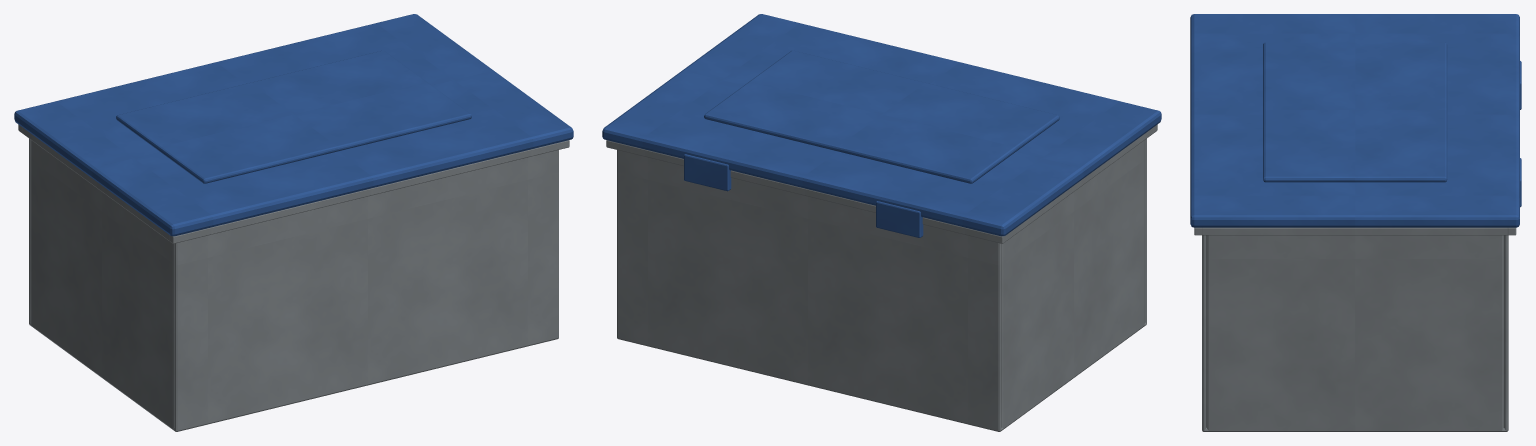
File: lootbox_bin.glb
3 views of the same model, side by side, from view 1: azimuth 30°, elevation 25°; view 2: azimuth 150°, elevation 25°; view 3: azimuth 270°, elevation 25° (orthographic). The views are drawn at different scales.
Parts seen in each view (by area): view 1: bin_back, lid, bin_left, lid_rib, rim_b, rim_l, bin_floor; view 2: bin_front, lid, bin_left, lid_rib, rim_f, clip1, clip0, rim_l, bin_floor; view 3: bin_right, lid, lid_rib, rim_r, bin_back, bin_front, bin_floor.
Part boxes in pixels (left/top/right/bottom): bin_back: left=174, top=150, right=558, bottom=431; lid: left=14, top=14, right=573, bottom=236; bin_left: left=31, top=140, right=174, bottom=428; lid_rib: left=116, top=50, right=471, bottom=183; rim_b: left=169, top=140, right=569, bottom=243; rim_l: left=22, top=127, right=169, bottom=240; bin_floor: left=29, top=322, right=558, bottom=431; bin_front: left=617, top=150, right=1001, bottom=431; lid: left=602, top=14, right=1161, bottom=236; bin_left: left=1001, top=140, right=1144, bottom=429; lid_rib: left=704, top=50, right=1059, bottom=183; rim_f: left=606, top=140, right=1006, bottom=243; clip1: left=684, top=154, right=731, bottom=191; clip0: left=876, top=201, right=923, bottom=237; rim_l: left=1006, top=127, right=1153, bottom=240; bin_floor: left=617, top=322, right=1146, bottom=431; bin_right: left=1206, top=235, right=1503, bottom=430; lid: left=1190, top=14, right=1519, bottom=227; lid_rib: left=1263, top=42, right=1447, bottom=182; rim_r: left=1202, top=227, right=1507, bottom=235; bin_back: left=1202, top=235, right=1206, bottom=431; bin_front: left=1504, top=235, right=1508, bottom=430; bin_floor: left=1202, top=428, right=1508, bottom=431.
Bounding box in the file's own units: 0.63 × 0.325 × 0.432.
Materials: 2 (2 with a texture image).
